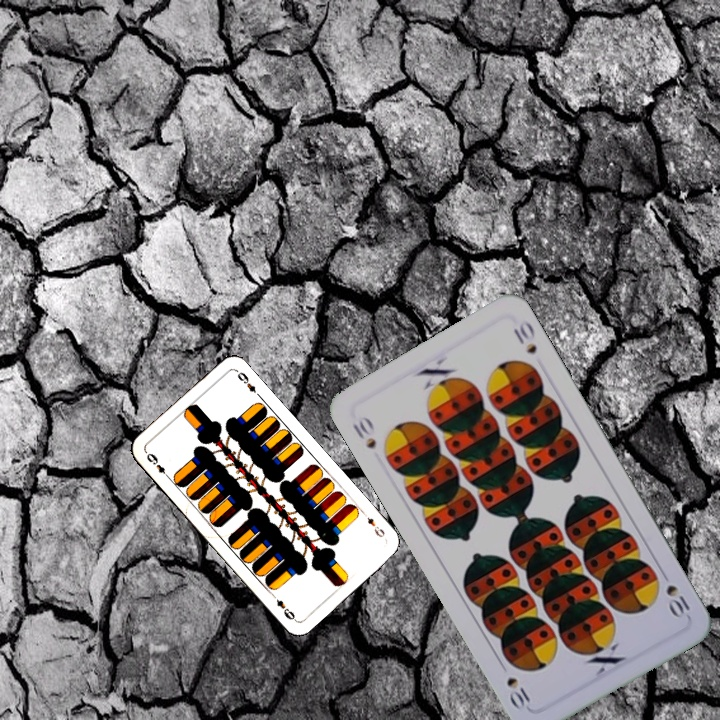E9: (142, 449, 172, 482), (363, 513, 387, 540)
S10: (662, 580, 693, 621), (348, 411, 379, 452)
